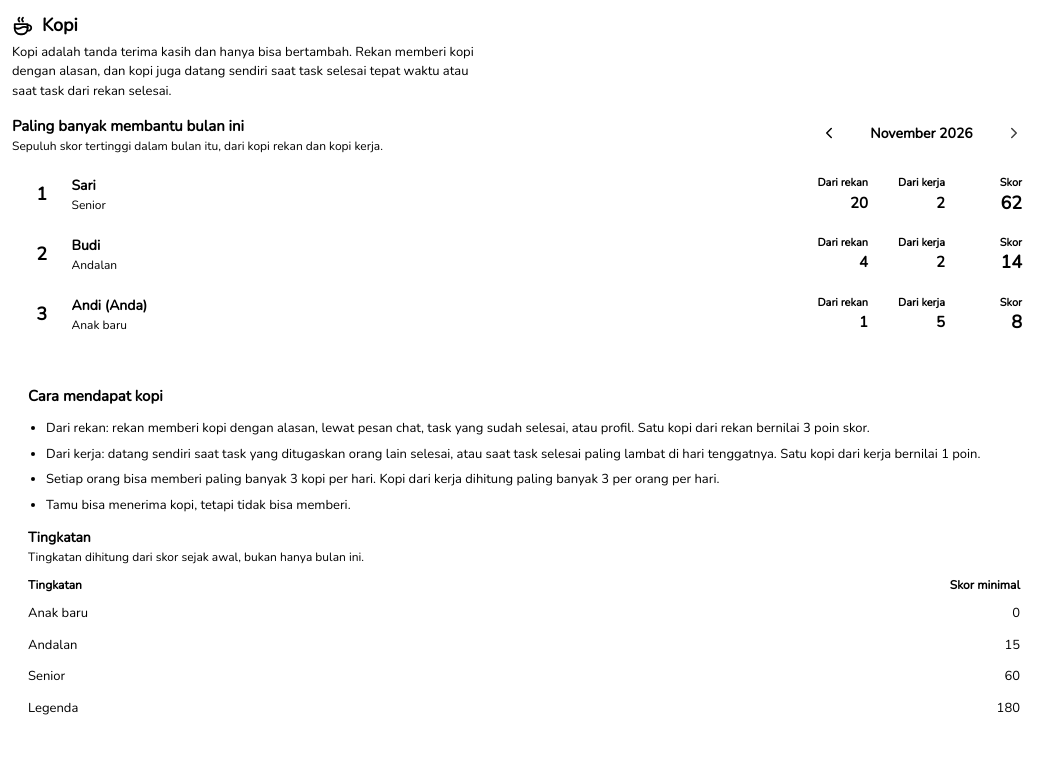
Test: Kopi: papan bulanan › pindah ke bulan sebelumnya lalu kembali; tidak bisa melewati bulan ini
Later steps or results of the test are not shown.
Expected: the list named "Peringkat November 2026" is shown, [12,165,1036,345]
Expected: the button named "Bulan berikutnya" is disabled, [992,111,1036,155]
Click the button named "Bulan sebelumnya". click: (829, 133)
box: [807,111,851,155]
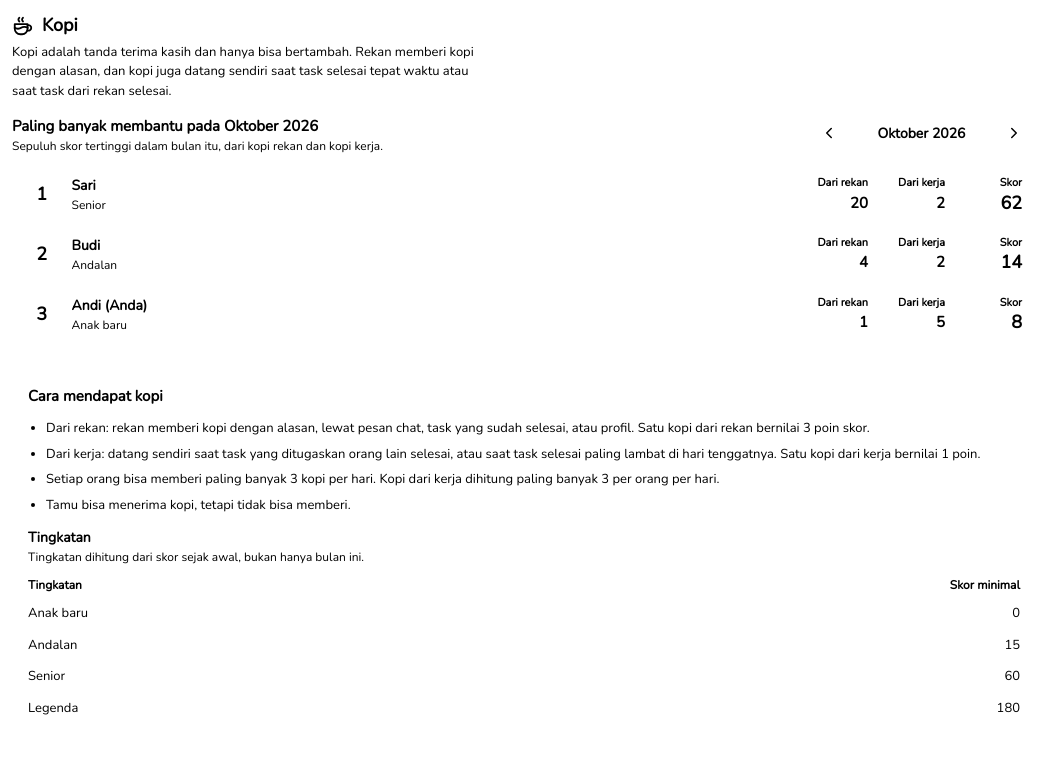
Expected: the list named "Peringkat Oktober 2026" is shown, [12,165,1036,345]
Now the heading "Paling banyak membantu pada Oktober 2026" is shown, box [12,116,318,136]
